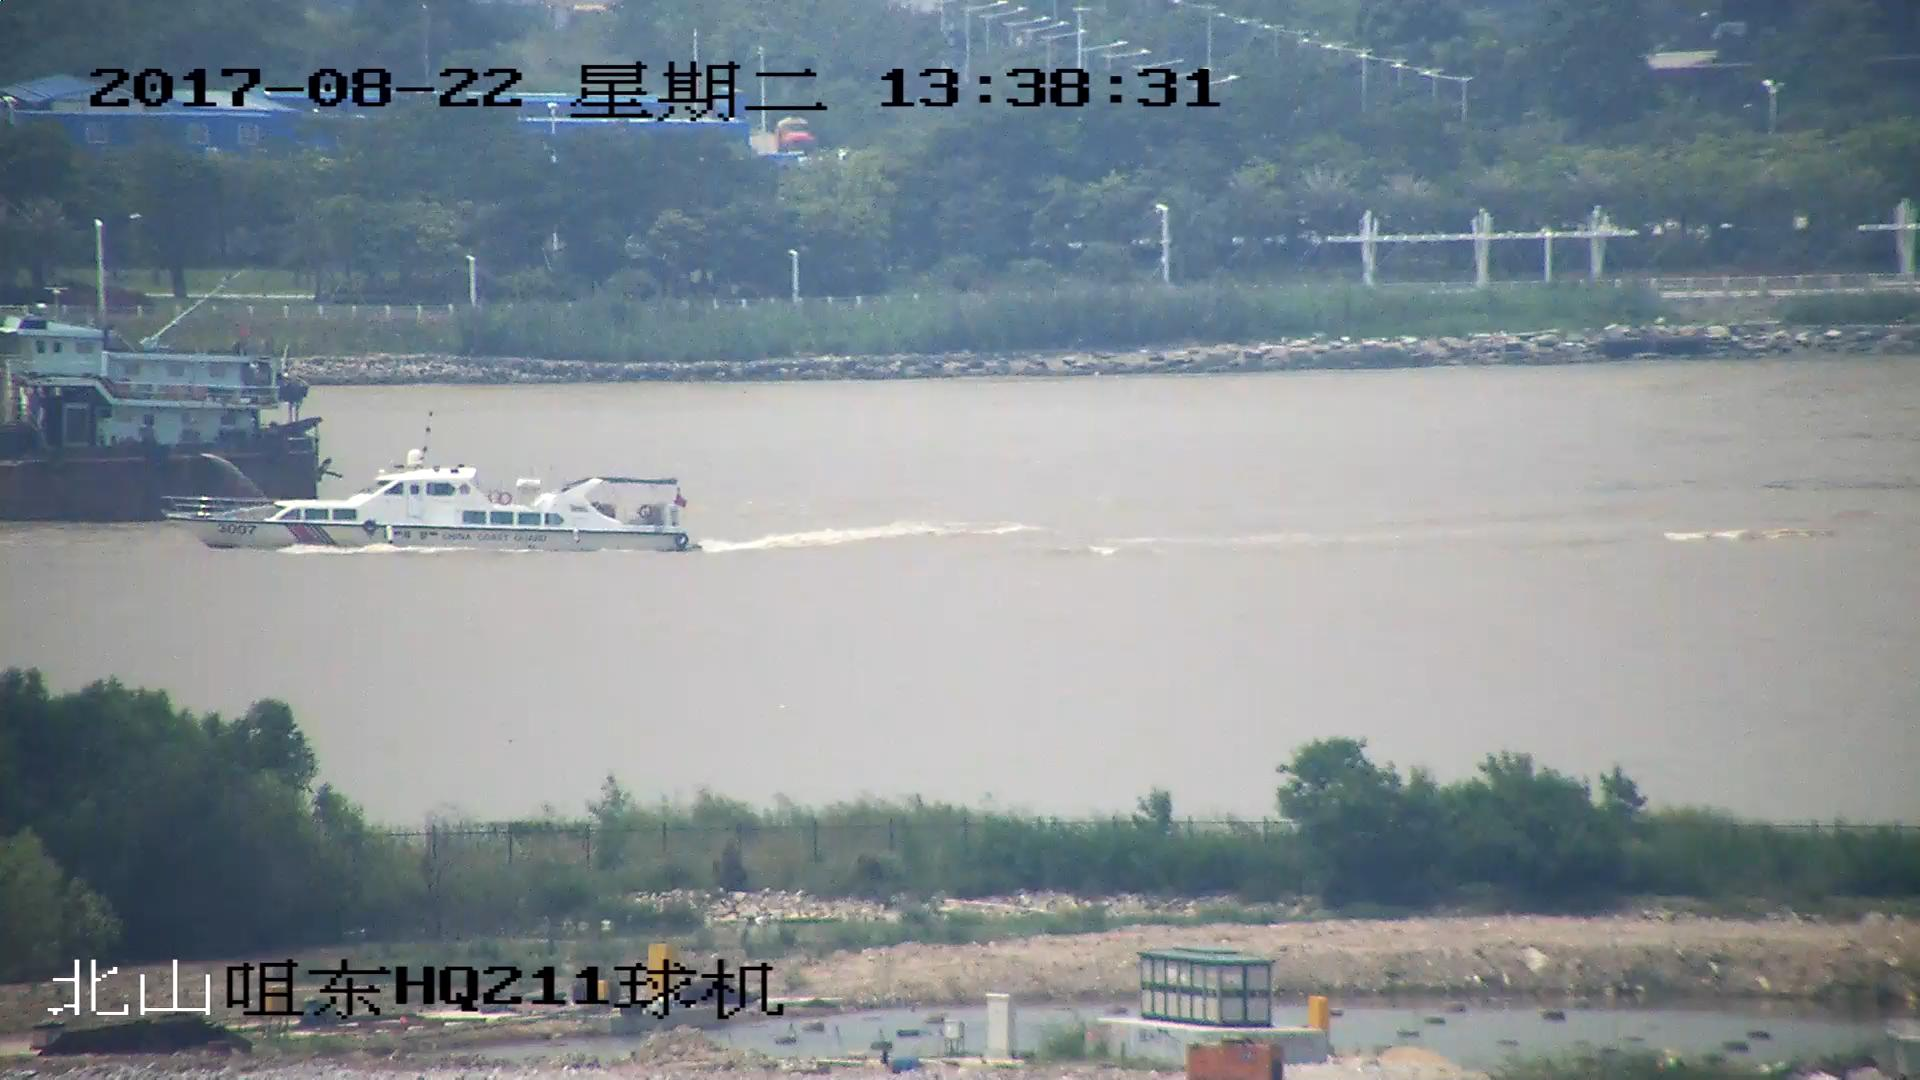bulk cargo carrier: (1, 289, 331, 518)
passenger ship: (163, 439, 701, 561)
